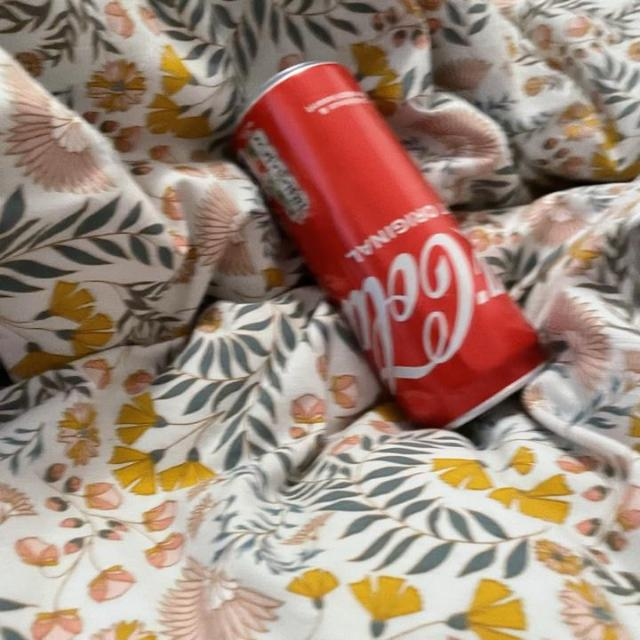can: (220, 49, 560, 441)
